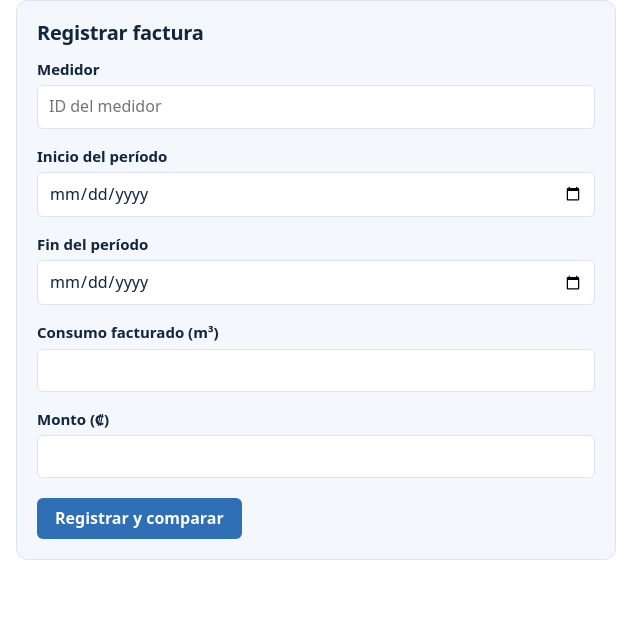
Test case: PantallaFactura › no envía el formulario si falta algún campo
Click the button "Registrar y comparar" at (139, 519), box [37,498,242,539]
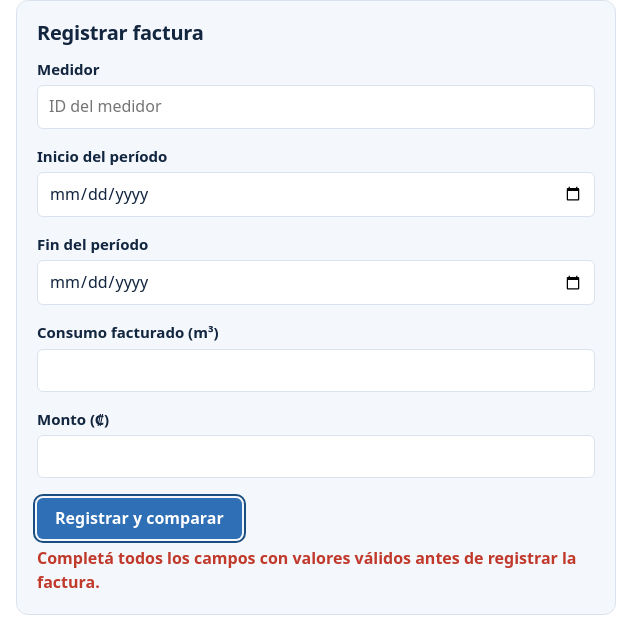
Now the text "Completá todos los campos con valores válidos antes de registrar la factura." is shown, box [37,547,595,594]
